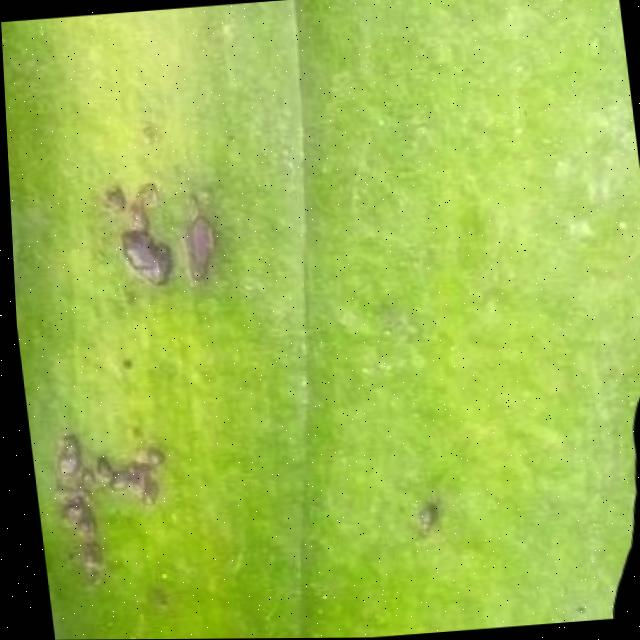mite: (23, 368, 640, 640), (36, 397, 466, 589), (42, 428, 105, 585), (113, 209, 223, 290), (384, 474, 465, 552), (90, 440, 168, 509), (116, 224, 175, 288), (400, 486, 448, 541), (409, 496, 440, 533), (100, 181, 128, 212), (114, 351, 136, 373), (117, 353, 132, 369)
sunburn: (93, 168, 229, 299)
